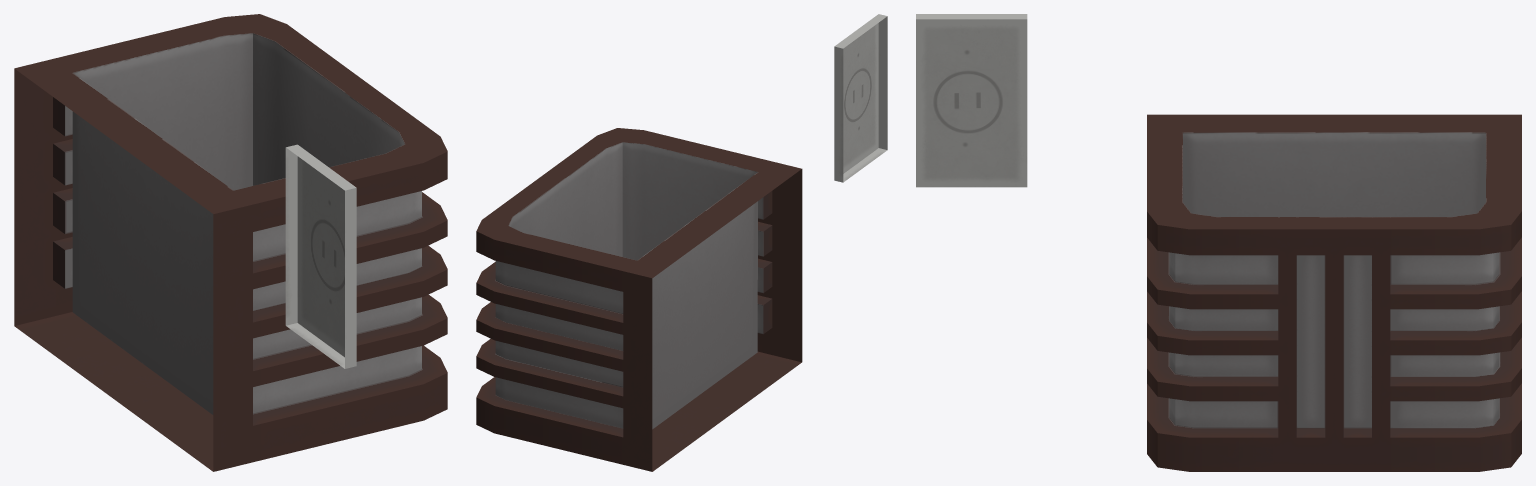
The model's file is SM_Barcode.fbx.
3 views of the same model, side by side, from view 1: azimuth 30°, elevation 25°; view 2: azimuth 150°, elevation 25°; view 3: azimuth 270°, elevation 25° (orthographic). The views are drawn at different scales.
Parts seen in each view (by area): view 1: SM_Barcode; view 2: SM_Barcode; view 3: SM_Barcode.
Boxes of the visible parts, box(x1,y1,x2,y2) form: SM_Barcode: box(14, 14, 447, 471); SM_Barcode: box(476, 14, 887, 471); SM_Barcode: box(916, 14, 1521, 471).
Bounding box in the file's own units: 13.28 × 29.61 × 18.73.
Materials: 1 (1 with a texture image).
